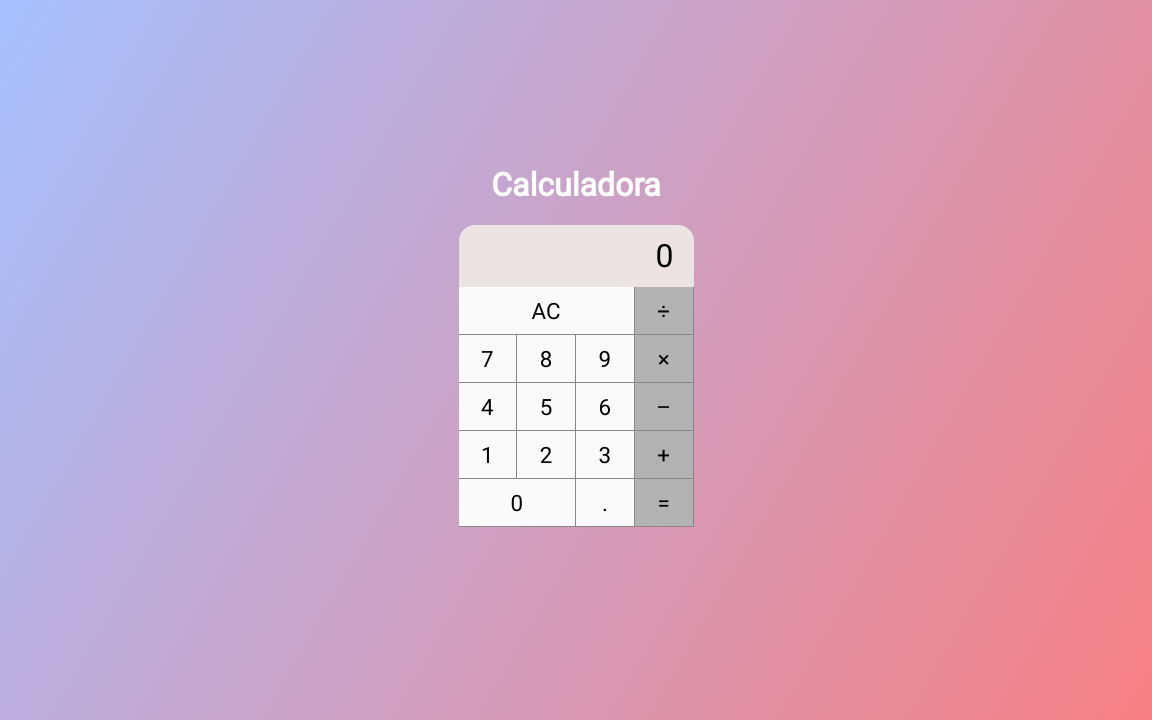
Scenario: Teste de Calculadora › Limpar display (AC)
Click the button "1": (489, 455) [459,431,518,479]
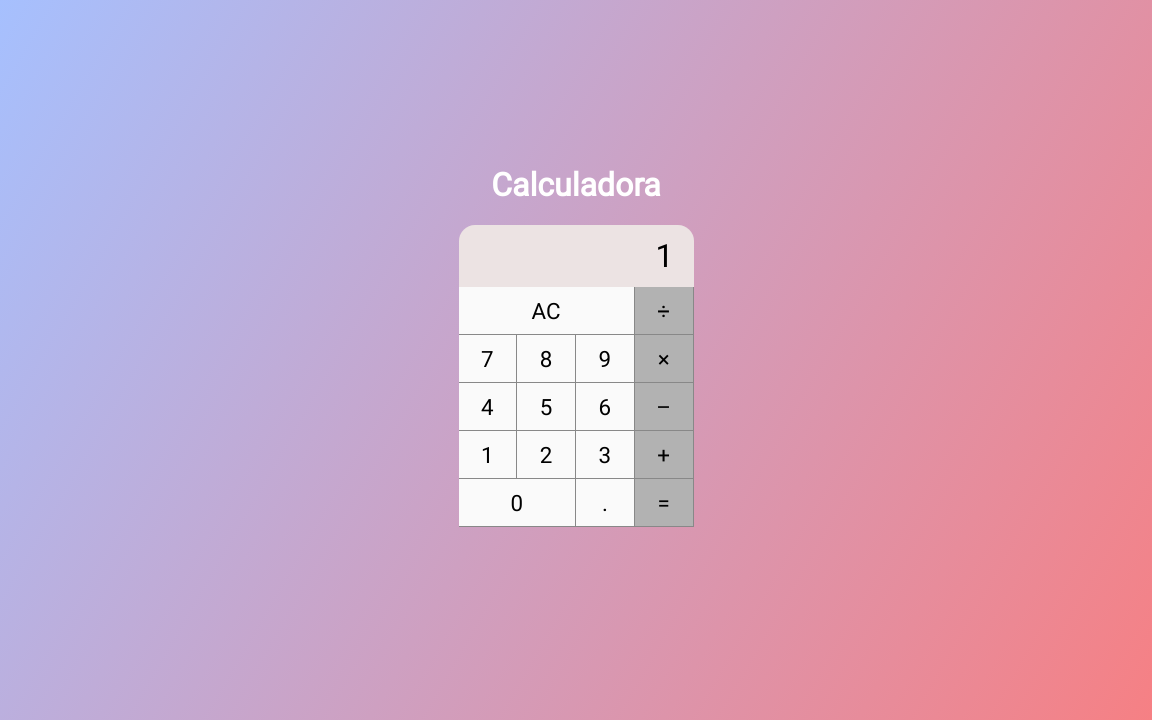
Click the button "2": (547, 455) [517,431,576,479]
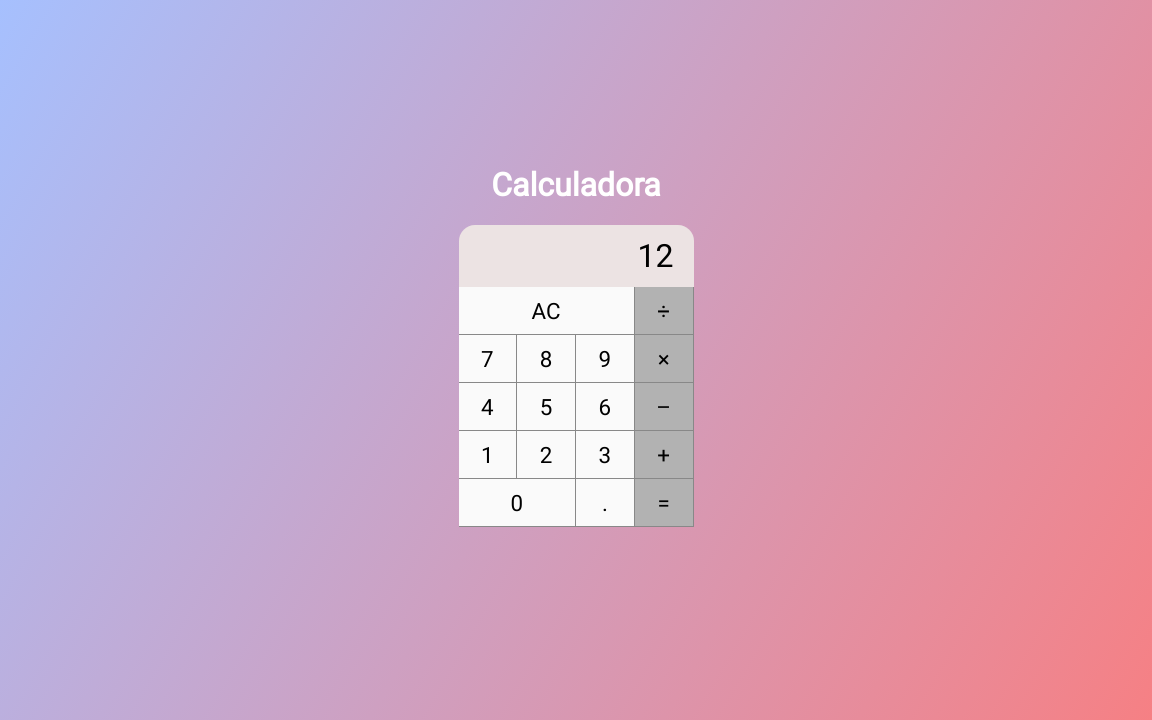
Click the button "3": (606, 455) [576,431,635,479]
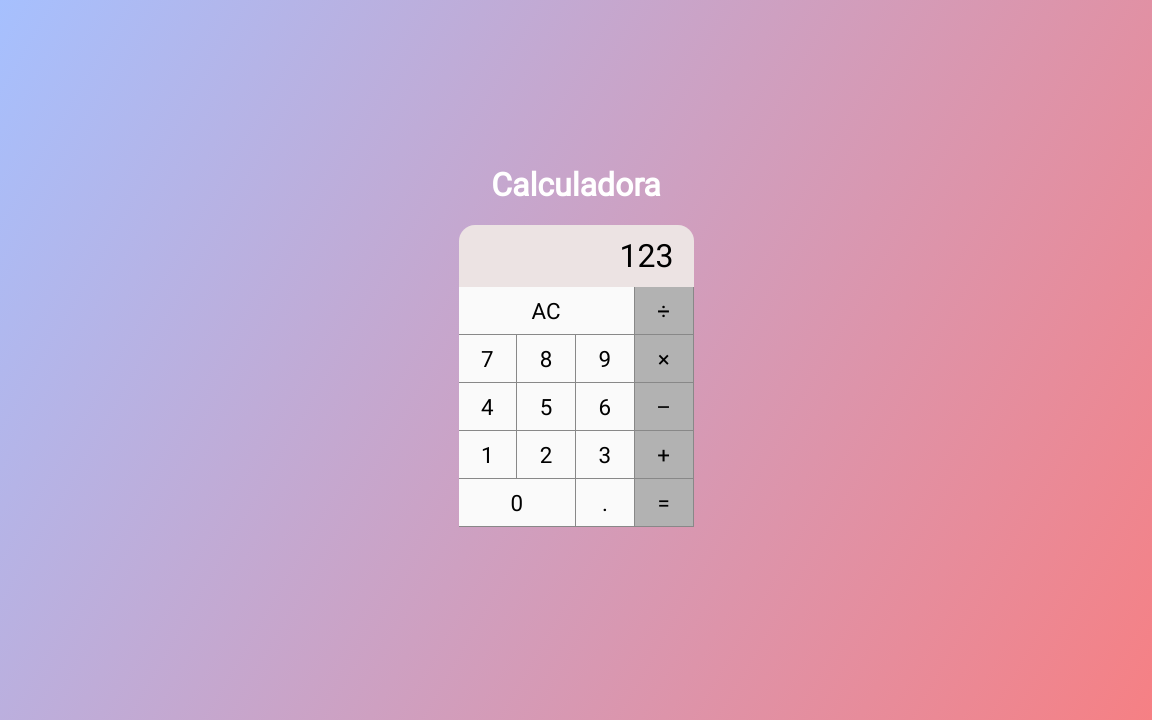
Click the button "AC": (547, 311) [459,287,635,335]
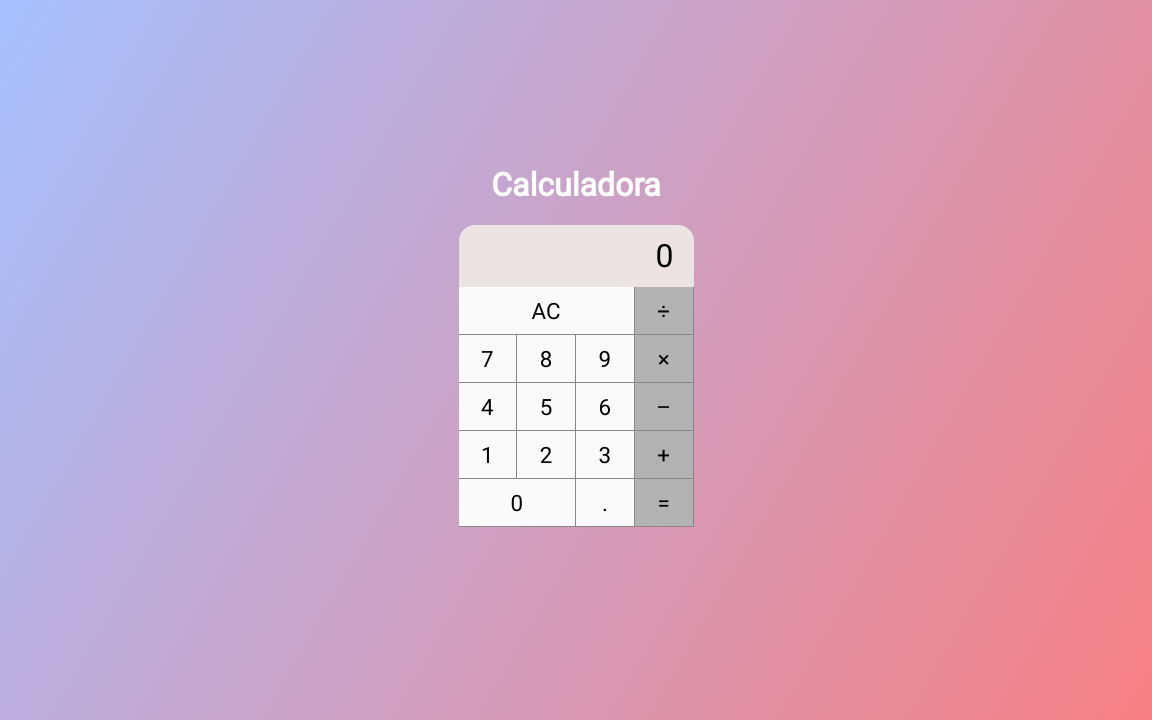
Expected: the text with class "display" reads "0", [459,225,694,287]
